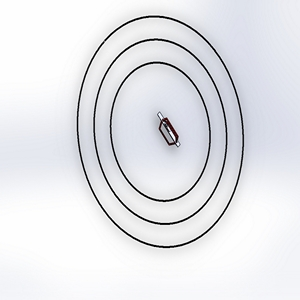circle: (69, 10, 250, 254)
submarine: (146, 104, 188, 155)
